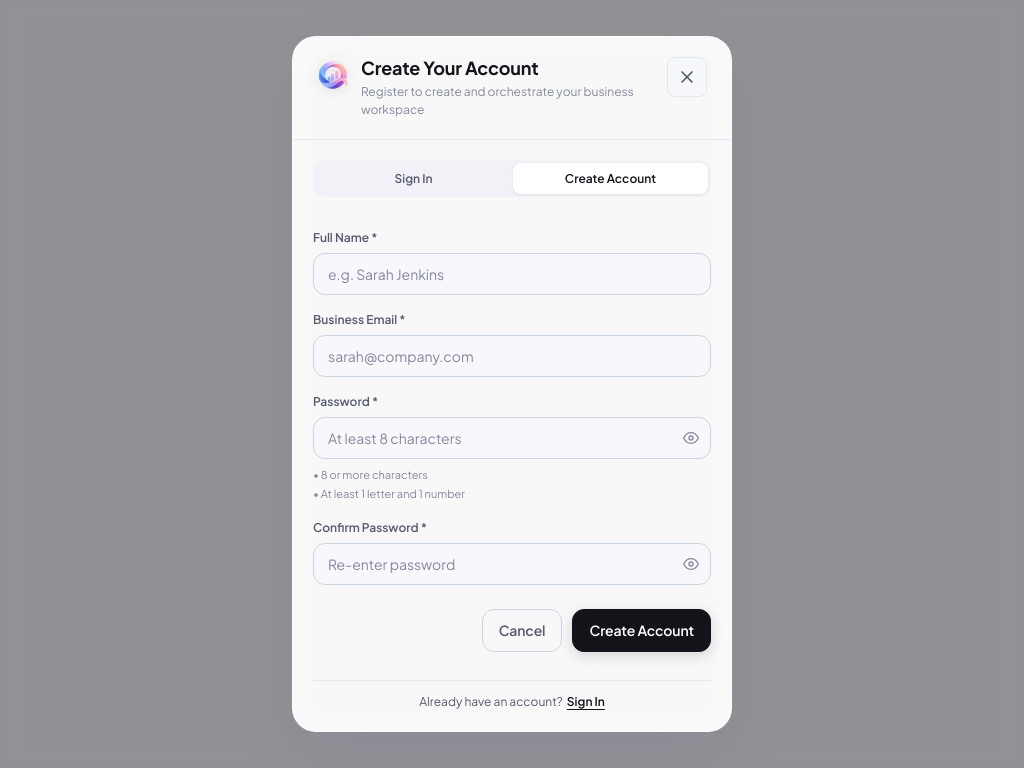
Test case: Public User Registration & Business Onboarding Suite › 1. Public Registration Form UI & Client-Side Validation › validates required fields, email format, and password criteria on submit
The image size is (1024, 768).
Click the button "Create Account". click: coordinates (642, 630)
box: [572,609,711,652]
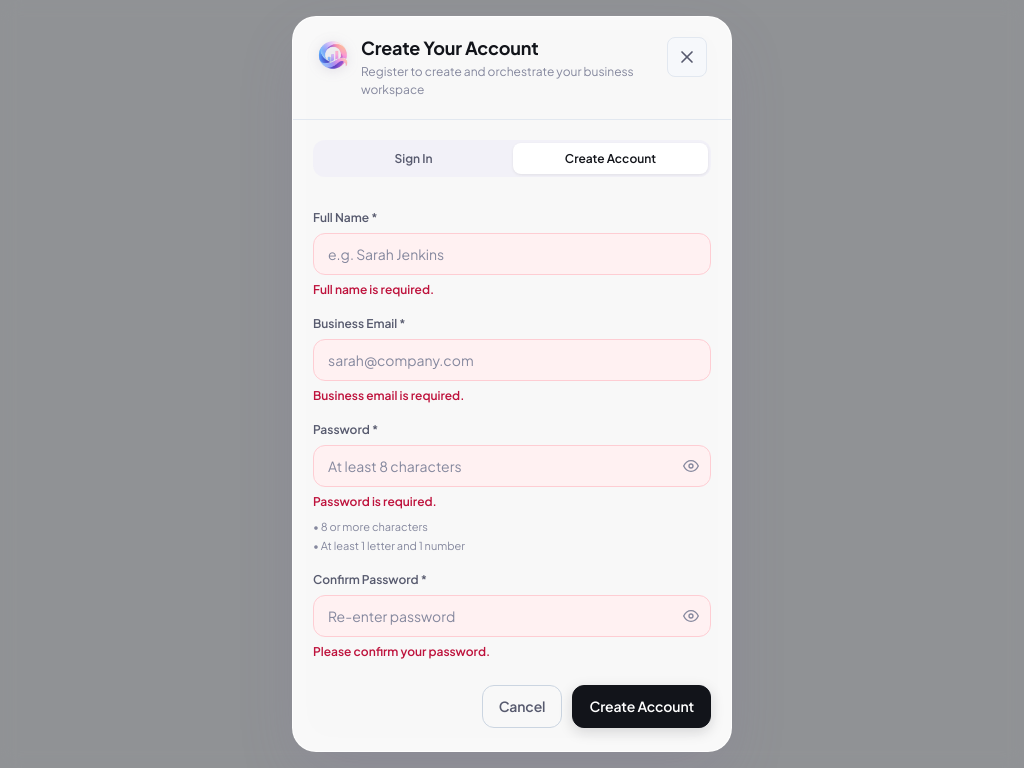
Now the text "Full name is required." is shown, box [313,282,434,297]
Now the text "Business email is required." is shown, box [313,388,464,403]
Now the text "Password is required." is shown, box [313,494,437,509]
// Test invalid email and weak password
Type "Alex Smith" into the field labelled "Full Name *". click: coordinates (512, 254)
box: [313,233,711,275]
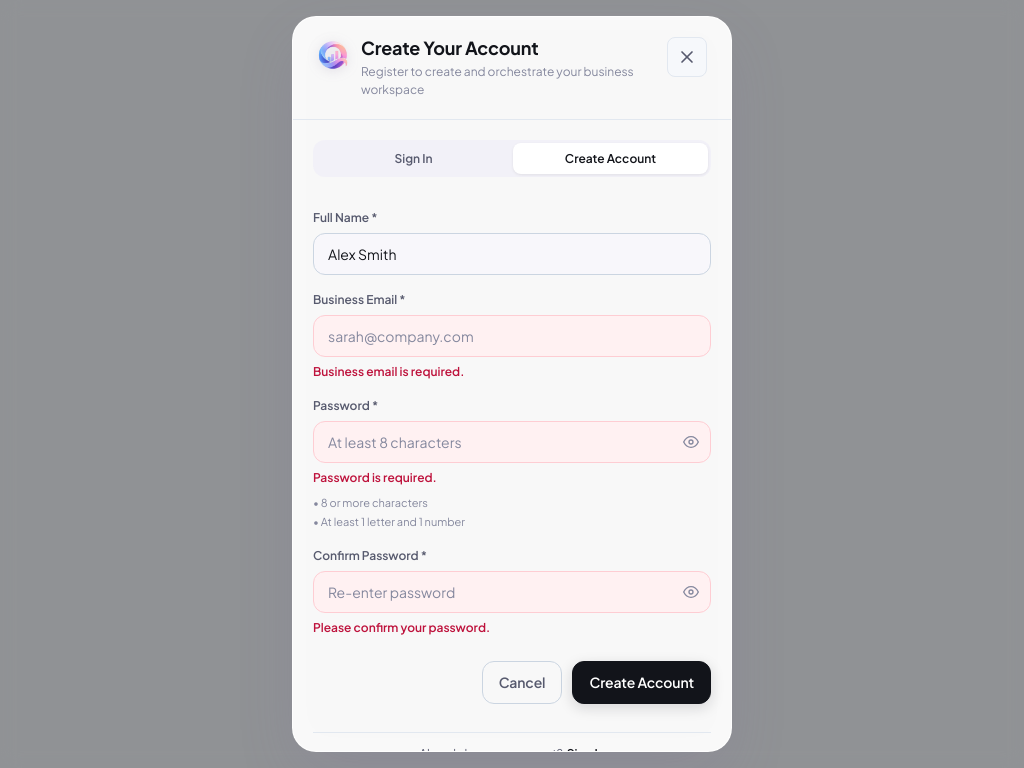
Type "not-an-email" into the field labelled "Business Email *". click: coordinates (512, 336)
box: [313,315,711,357]
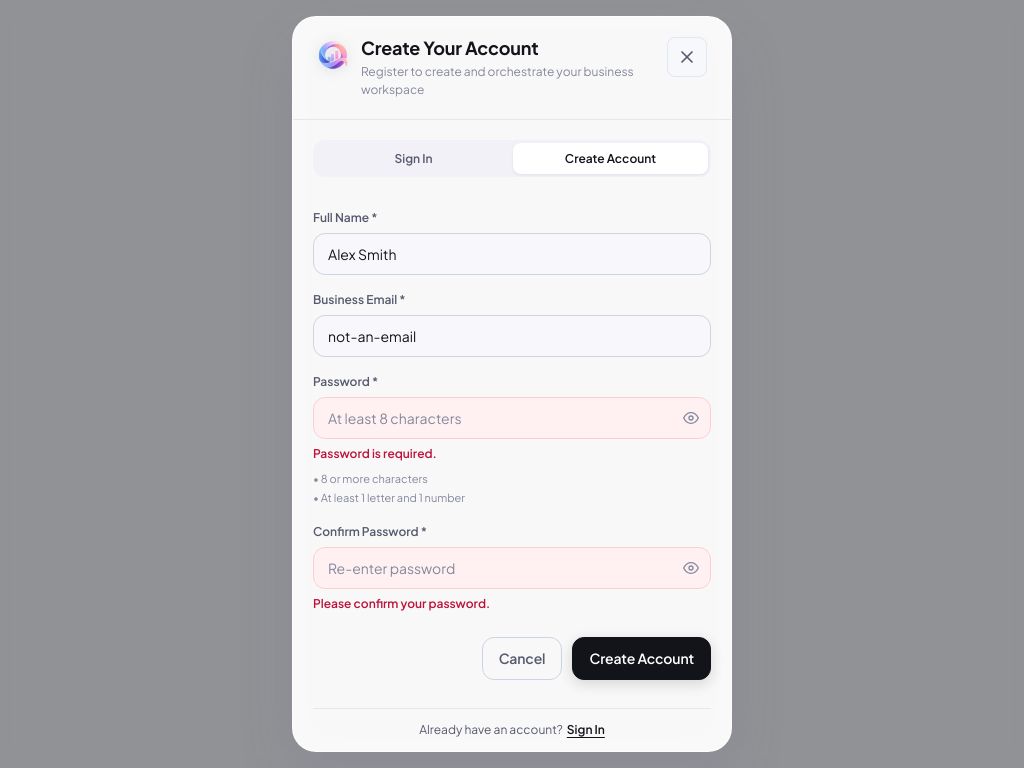
Type "short" into the password field labelled "Password *". click: coordinates (512, 418)
box: [313,397,711,439]
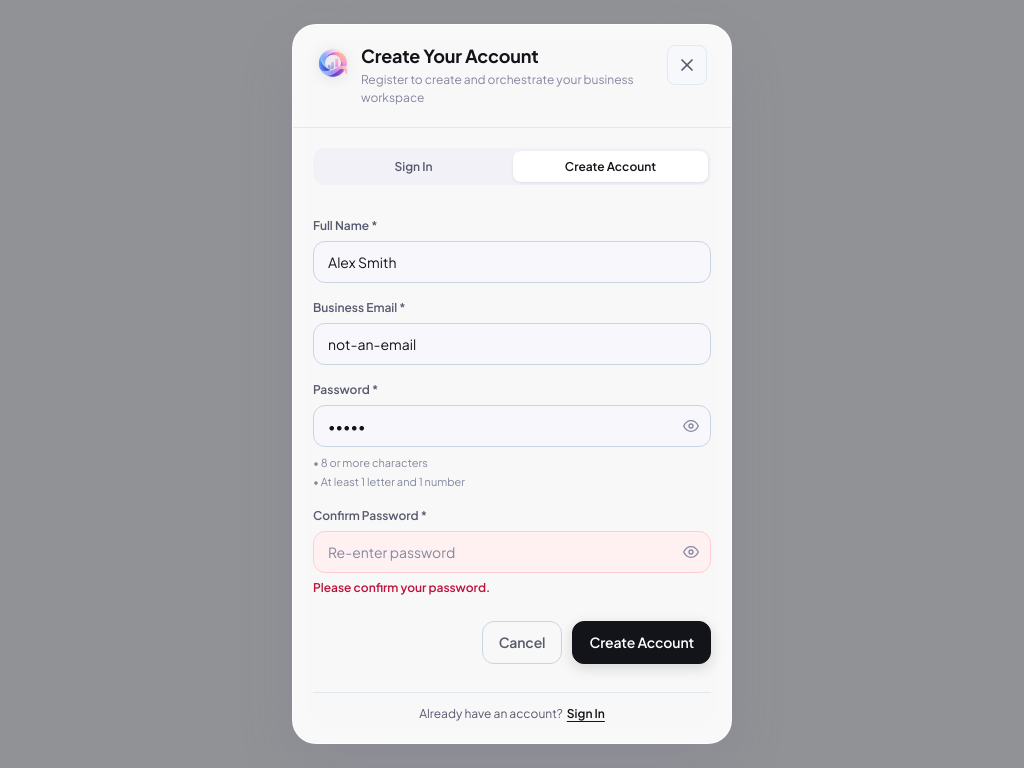
Type "mismatch" into the password field labelled "Confirm Password *". click: coordinates (512, 552)
box: [313,531,711,573]
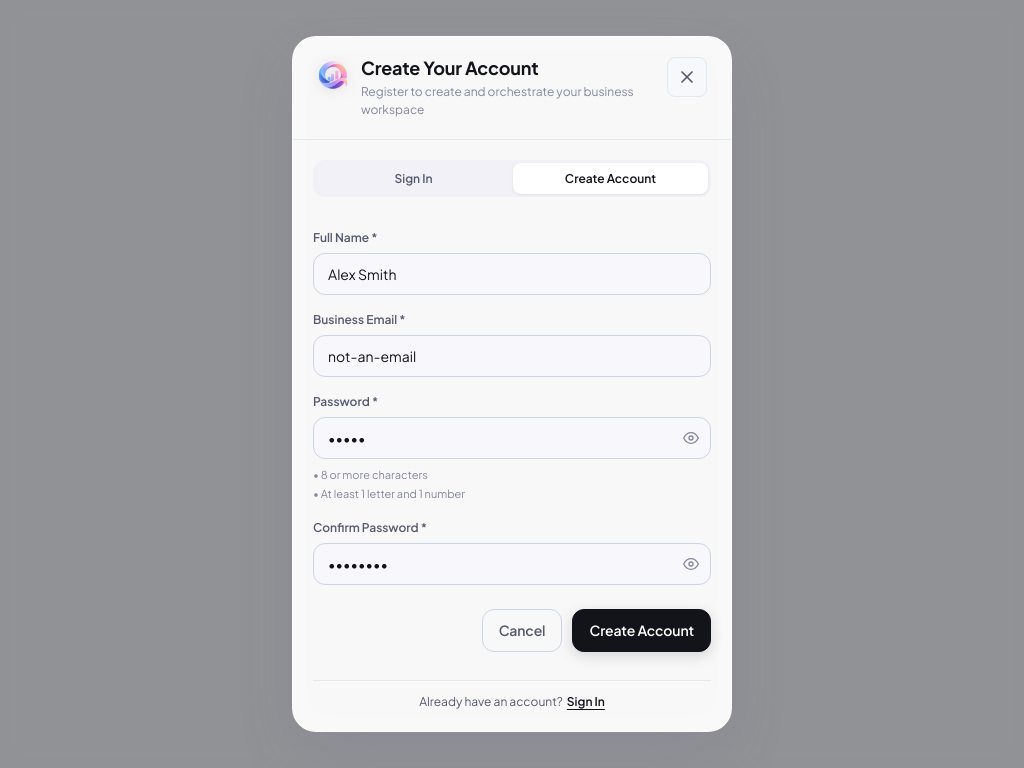
Click the button "Create Account". click: coordinates (642, 630)
box: [572,609,711,652]
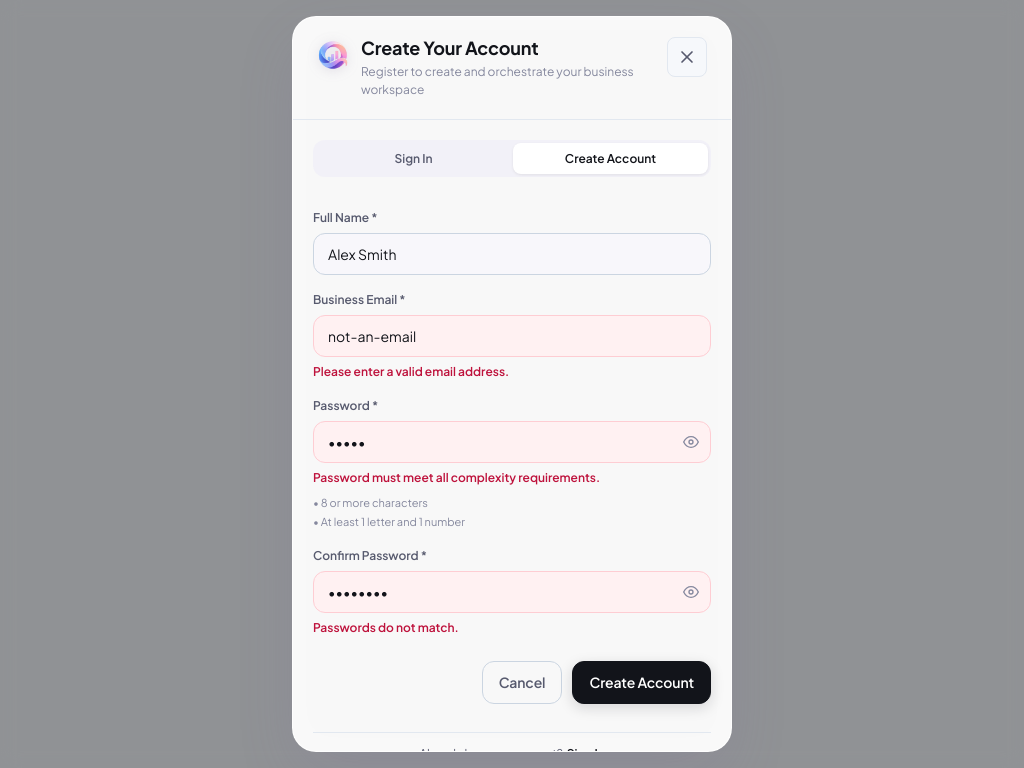
Now the text "Please enter a valid email address." is shown, box [313,364,509,379]
Now the text "Password must meet all complexity requirements." is shown, box [313,470,600,485]
Now the text "Passwords do not match." is shown, box [313,620,459,635]
